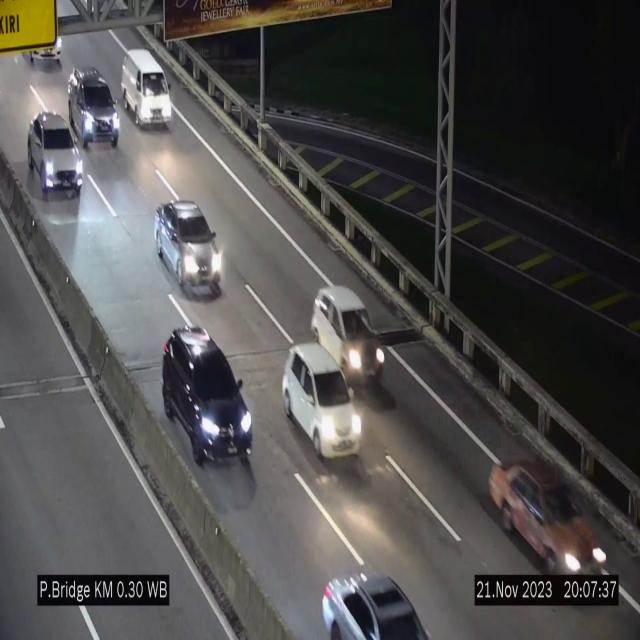Car: (488, 454, 609, 575), (163, 325, 253, 486), (312, 552, 422, 640), (282, 345, 362, 459), (314, 282, 388, 386), (155, 201, 223, 296), (28, 113, 81, 197), (68, 68, 120, 148), (121, 49, 172, 128)
